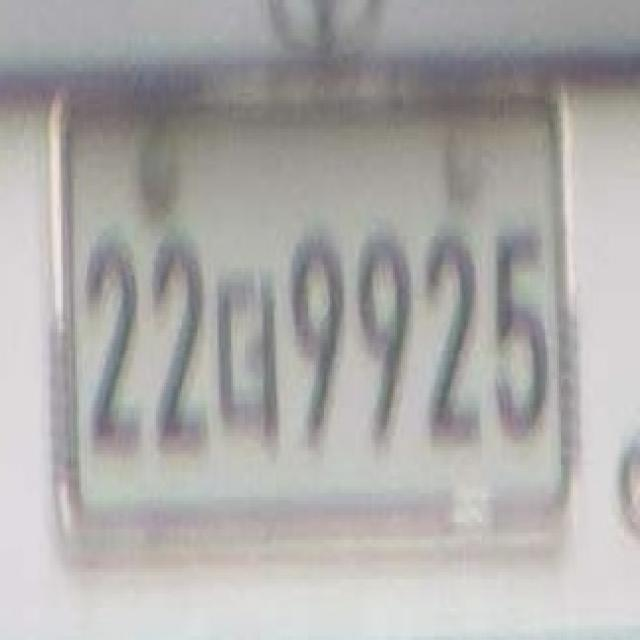2: (147, 212, 220, 474), (78, 210, 148, 475), (421, 198, 490, 461)
5: (484, 197, 557, 472)
9: (283, 211, 355, 473), (355, 211, 415, 466)
deo: (211, 240, 287, 470)
license_plate: (66, 97, 566, 513)
